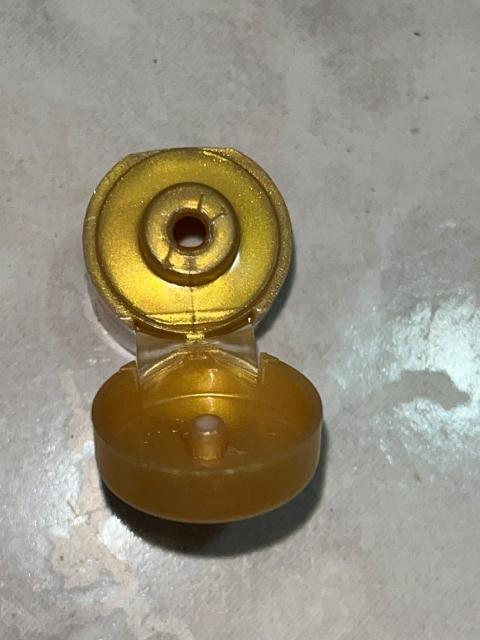PET: (56, 133, 363, 571)
